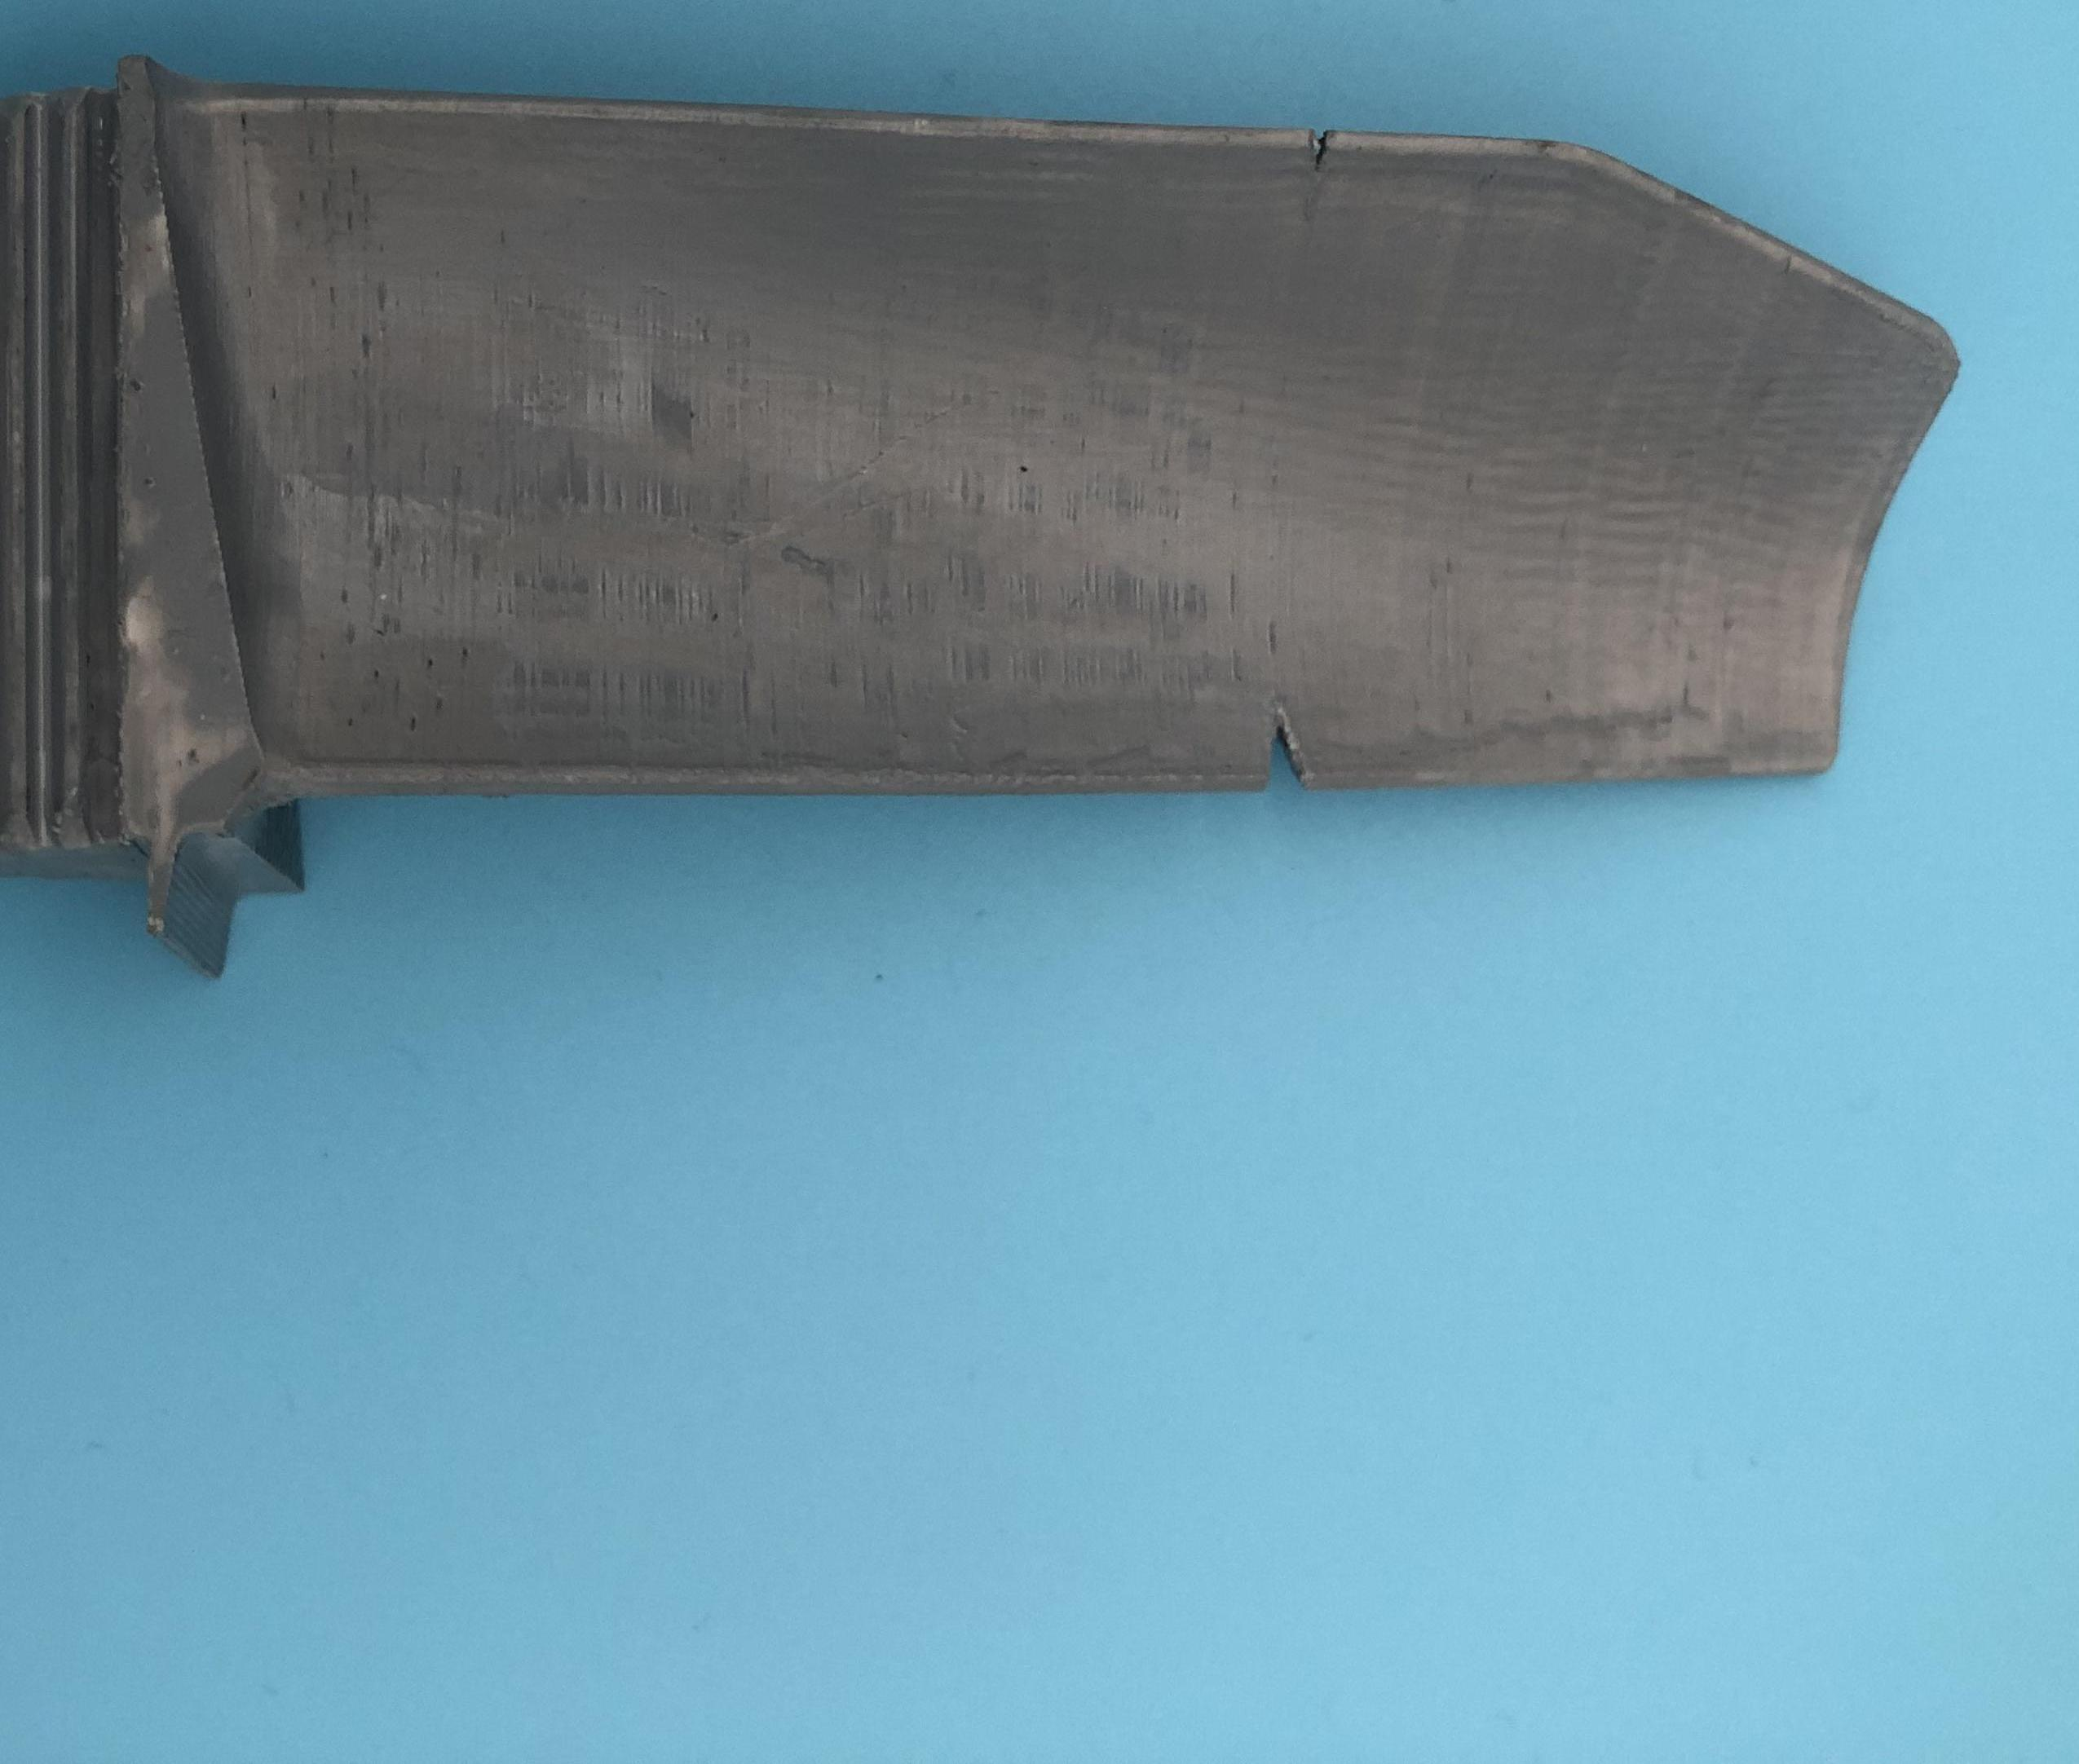groove: (1250, 710, 1332, 791), (1299, 121, 1353, 191)
